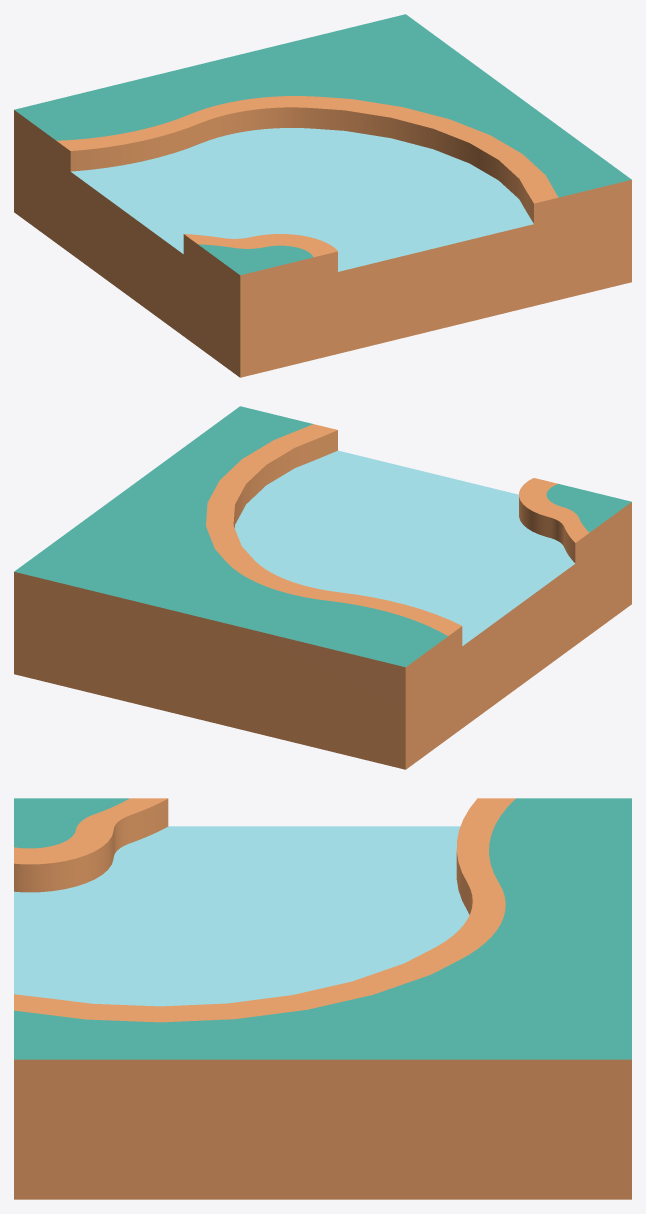
File: ground_river_corner.obj
3 views of the same model, one above another, from view 1: azimuth 30°, elevation 25°; view 2: azimuth 150°, elevation 25°; view 3: azimuth 270°, elevation 25° (orthographic). The views are drawn at different scales.
Visible parts, largest first — view 1: ground_dirtRiverCorner; view 2: ground_dirtRiverCorner; view 3: ground_dirtRiverCorner.
Boxes of the visible parts, <box> form: ground_dirtRiverCorner: <box>14,14,631,377</box>; ground_dirtRiverCorner: <box>14,406,631,769</box>; ground_dirtRiverCorner: <box>14,798,631,1199</box>.
Bounding box in the file's own units: 10 × 2.5 × 10.
